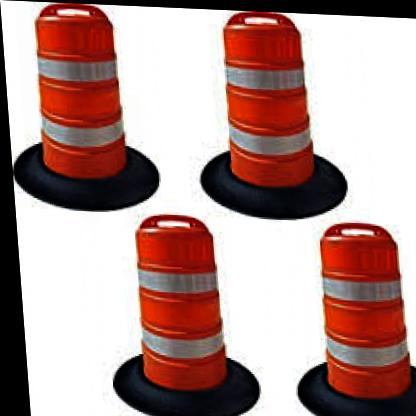obstacle: (129, 212, 230, 391), (218, 11, 319, 187), (30, 5, 131, 180), (316, 219, 409, 401)
